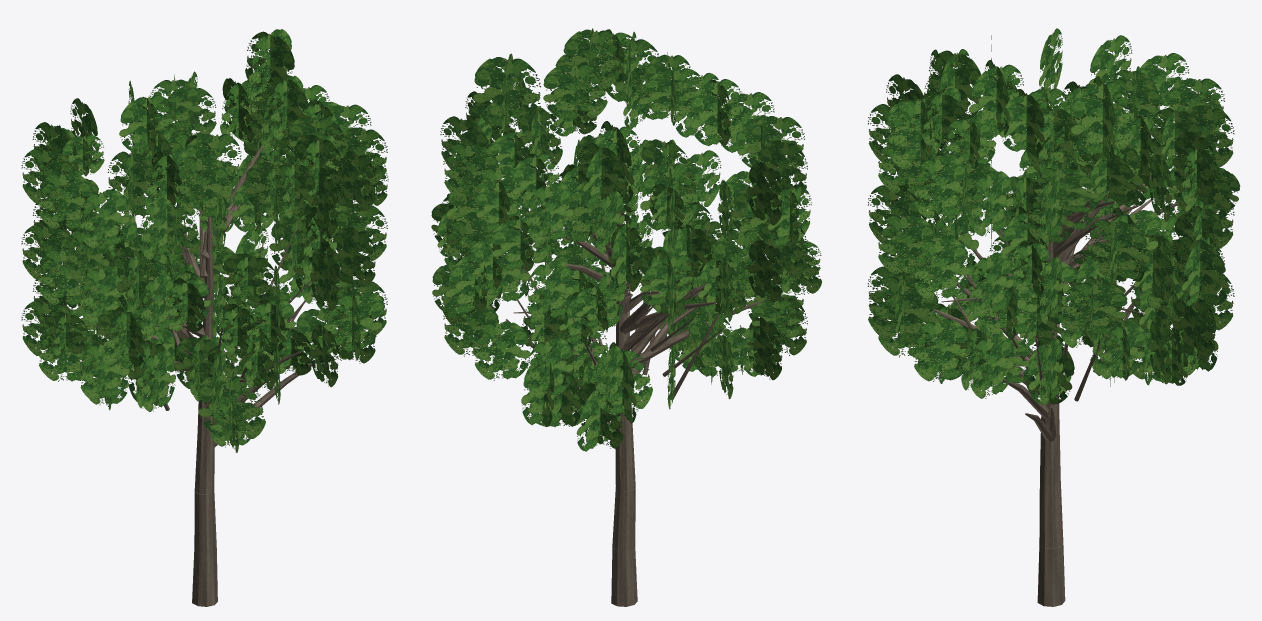
Rendered from Tilia_cordata_Polish_city_tree.glb.
3 views of the same model, side by side, from view 1: azimuth 30°, elevation 25°; view 2: azimuth 150°, elevation 25°; view 3: azimuth 270°, elevation 25° (orthographic). The views are drawn at different scales.
Visible parts, largest first — view 1: Leaves, Bark; view 2: Leaves, Bark; view 3: Leaves, Bark.
Boxes of the visible parts, bbox=[...] form: Leaves: bbox=[21, 29, 388, 452]; Bark: bbox=[84, 145, 340, 606]; Leaves: bbox=[431, 28, 821, 451]; Bark: bbox=[504, 178, 765, 606]; Leaves: bbox=[867, 28, 1240, 405]; Bark: bbox=[933, 176, 1191, 606].
Size of the model in its own units: 8.1 by 12 by 7.36.
2 materials, 2 textured.
